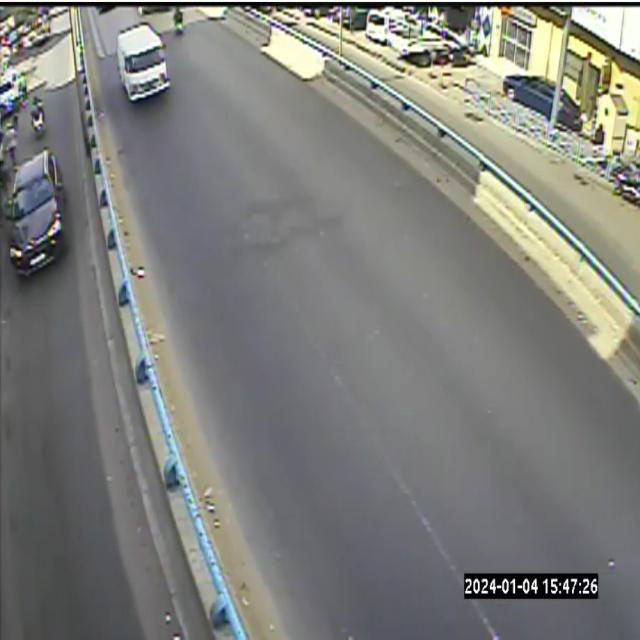car: (112, 30, 172, 107)
